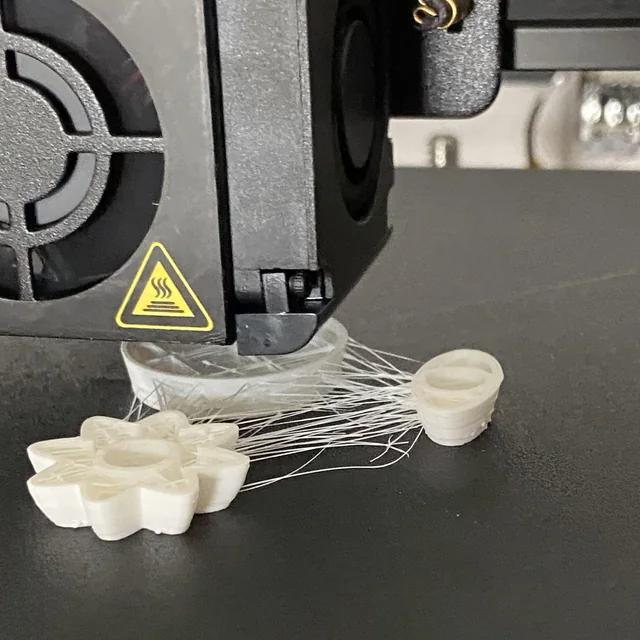stringing: (233, 395, 416, 455)
